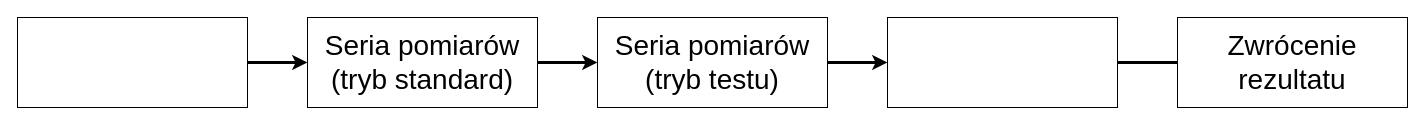
Image size: 1425x125. Some labels were removed from this diagram. The shapes that lost their labels are listed below. From the top down, each one's centre as x and y in pixels, then its label:
At point (132, 62): "Konfiguracja akcelerometru".
At point (1002, 62): "Weryfikacja wyników testu".
